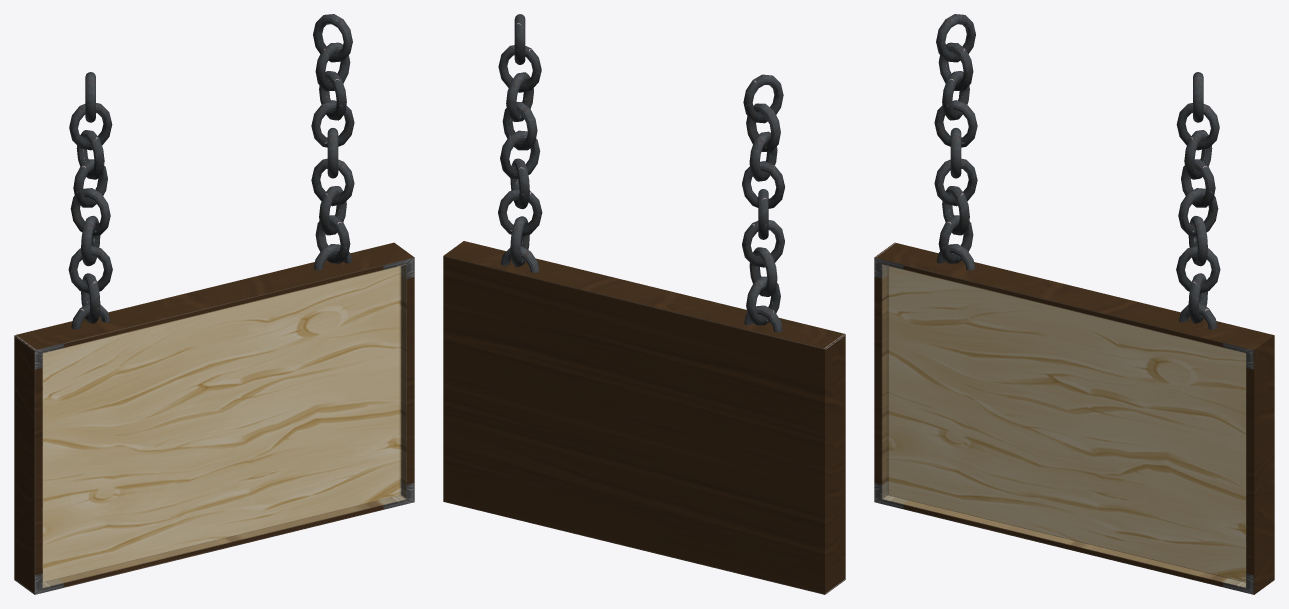
The model's file is Sign.fbx.
3 views of the same model, side by side, from view 1: azimuth 30°, elevation 25°; view 2: azimuth 150°, elevation 25°; view 3: azimuth 330°, elevation 25° (orthographic).
Visible parts, largest first — view 1: Sign; view 2: Sign; view 3: Sign.
Part boxes in pixels (x1,y1,x2,y2): Sign: (14,14,414,594); Sign: (443,14,845,594); Sign: (874,14,1274,594).
Bounding box in the file's own units: 249 × 310 × 27.25.
